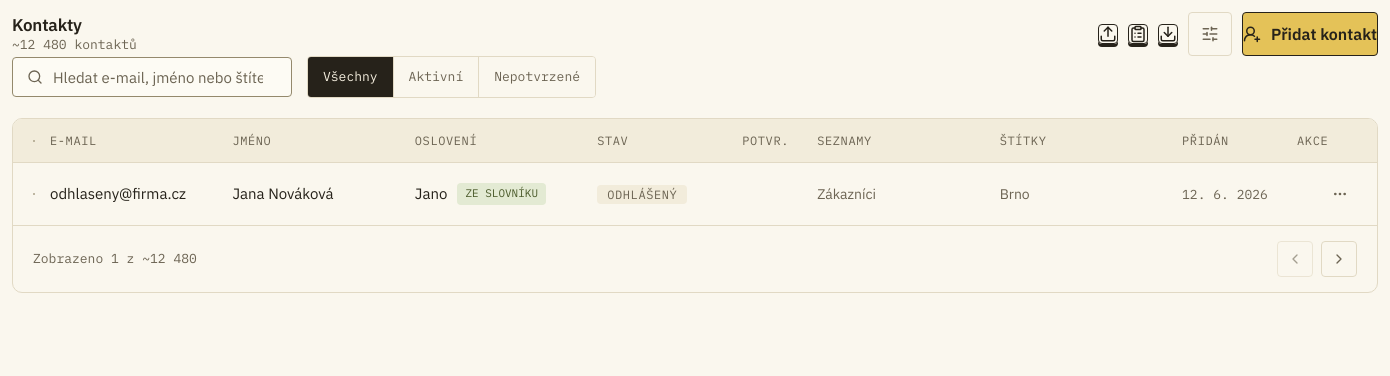
Test: ContactsTable: nabídka akcí v řádku › u odhlášeného kontaktu se odhlášení nenabízí
Click the button named "Další akce s kontaktem odhlaseny@firma.cz".
click(1340, 194)  # box [1323,177,1357,211]
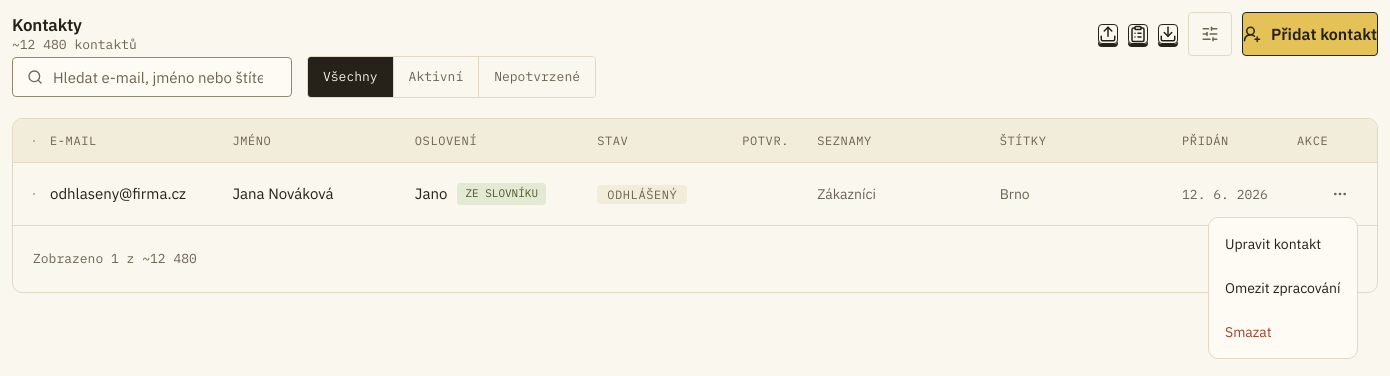
Expected: the menu item "Upravit kontakt" is shown, [1225,235,1321,253]
